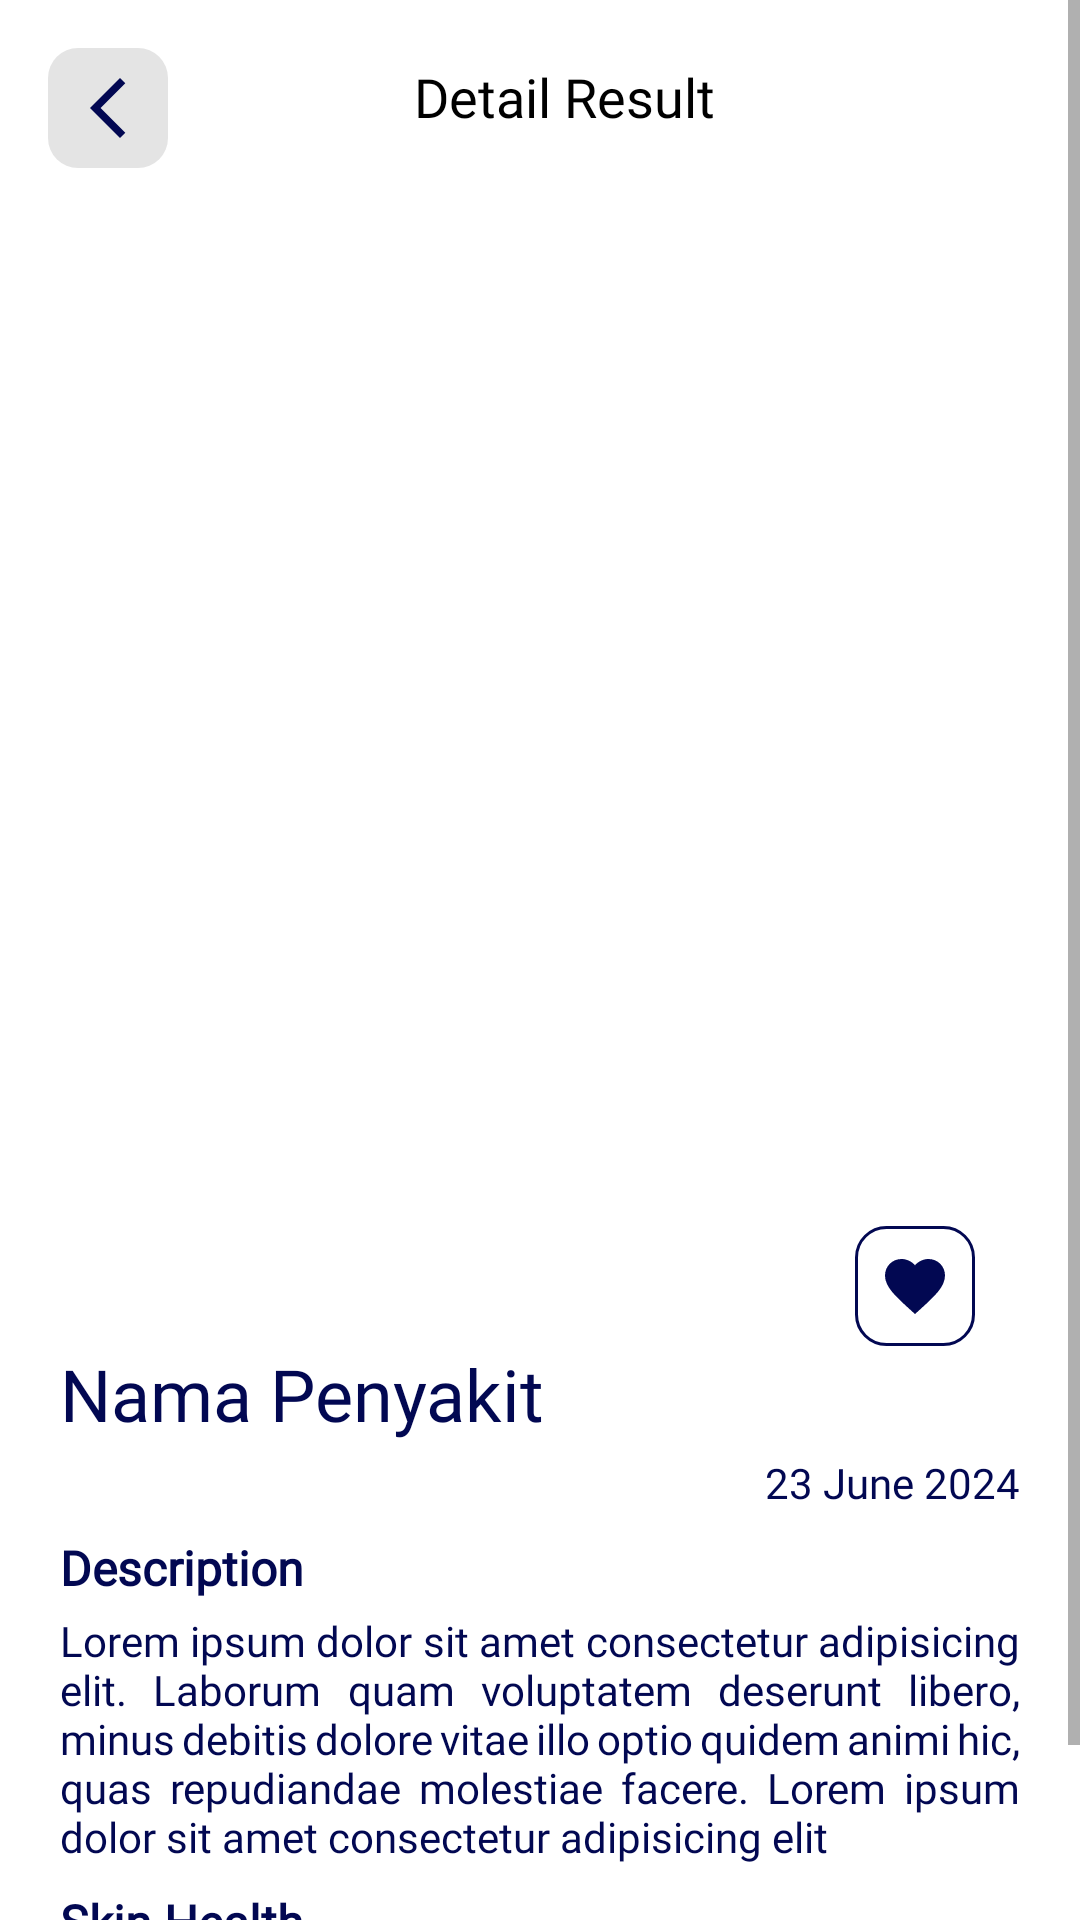

Point at icon controls on the screen. Image size 1080x1920, points as (x,y).
arrow back: (108,108)
favorite: (915,1286)
